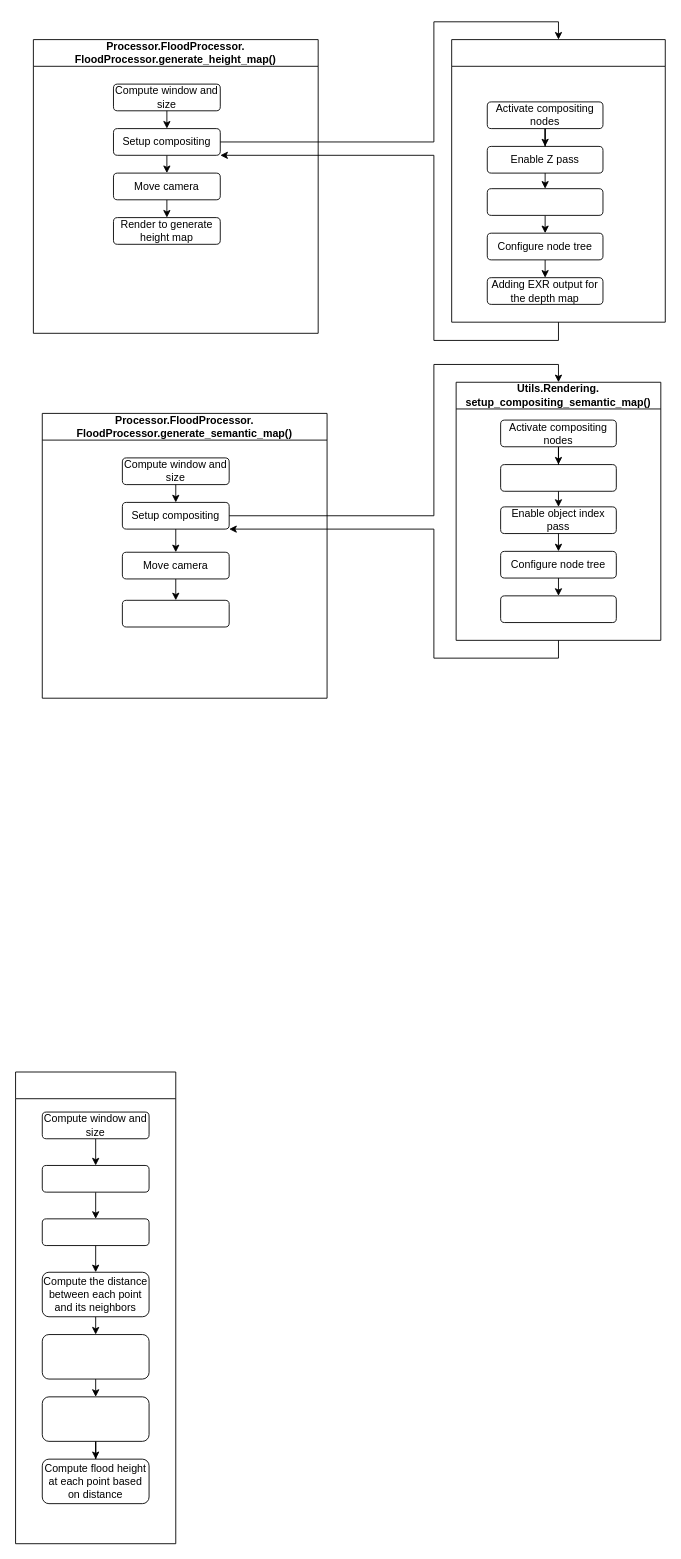
This 681x1559 diagram has some shape labels left out. The box of each missing label's shape, as (x1, y1, x2, y2) in pixels:
Adding PNG output for the semantic map: (500, 595, 616, 623)
Create graph of distances: (41, 1334, 149, 1379)
Disable object index pass: (486, 188, 603, 215)
Disable Z pass: (500, 464, 616, 491)
Load height map: (41, 1165, 149, 1192)
Load semantic map: (41, 1218, 149, 1246)
Processor.FloodProcessor FloodProcessor.flood(): (15, 1071, 176, 1544)
Render to generate source map: (121, 599, 229, 627)
Solve the distance from each point to source using Dijkstra: (41, 1396, 149, 1441)
Utils.Rendering. setup_compositing_height_map(): (451, 39, 665, 322)
